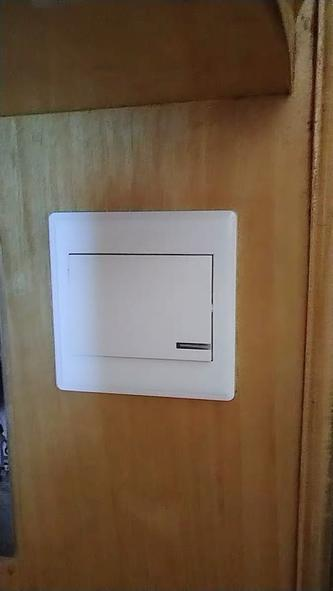switch: (59, 244, 224, 366)
